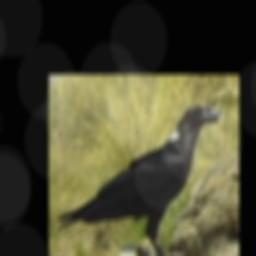Crow: (55, 104, 222, 256)
